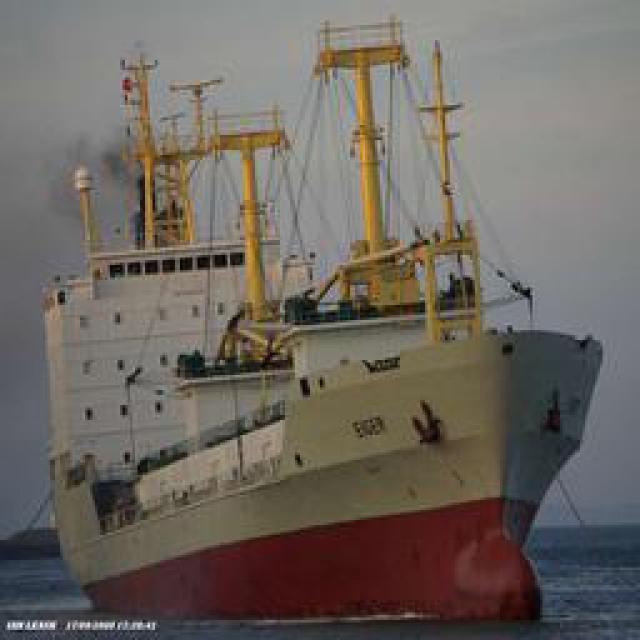Ship: (35, 17, 590, 627)
